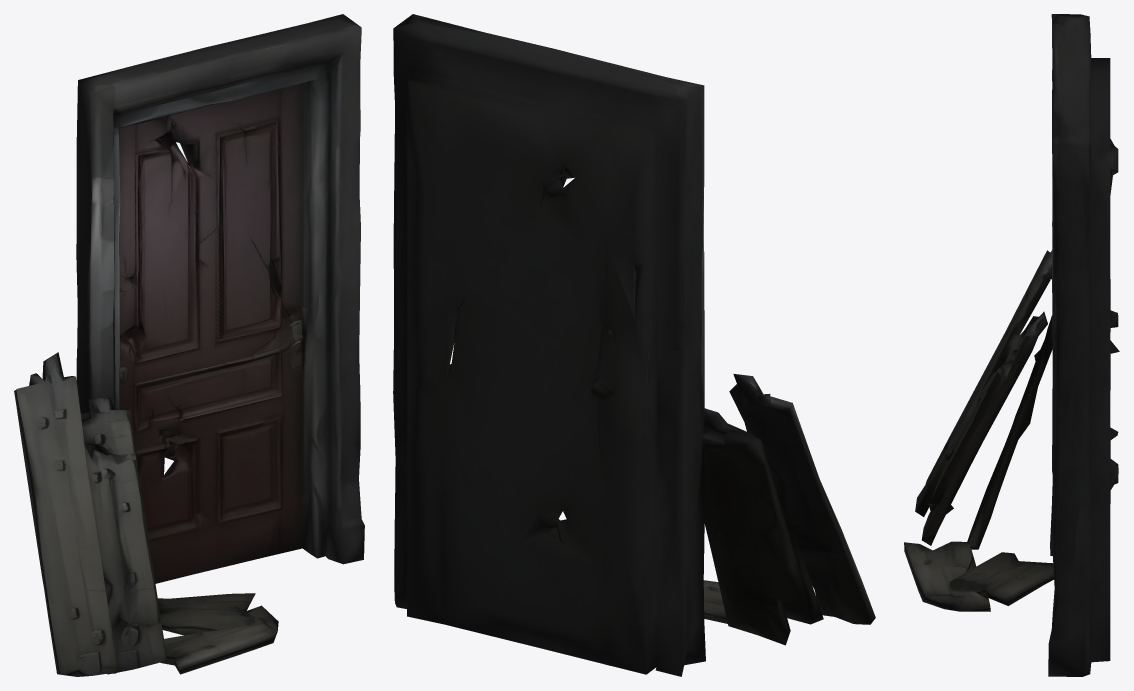
Rendered from pantry_door_cleared_hd.glb.
3 views of the same model, side by side, from view 1: azimuth 30°, elevation 25°; view 2: azimuth 150°, elevation 25°; view 3: azimuth 270°, elevation 25° (orthographic). The views are drawn at different scales.
Parts seen in each view (by area): view 1: tripo_node_e8bd4c12-4b35-42ca-89c0-8dce47669d71; view 2: tripo_node_e8bd4c12-4b35-42ca-89c0-8dce47669d71; view 3: tripo_node_e8bd4c12-4b35-42ca-89c0-8dce47669d71.
Boxes of the visible parts, x1,y1,x2,y2 form: tripo_node_e8bd4c12-4b35-42ca-89c0-8dce47669d71: [14, 14, 364, 676]; tripo_node_e8bd4c12-4b35-42ca-89c0-8dce47669d71: [393, 14, 875, 676]; tripo_node_e8bd4c12-4b35-42ca-89c0-8dce47669d71: [904, 14, 1119, 676].
Bounding box in the file's own units: 0.7145 × 1 × 0.3656.
Materials: 1 (1 with a texture image).
